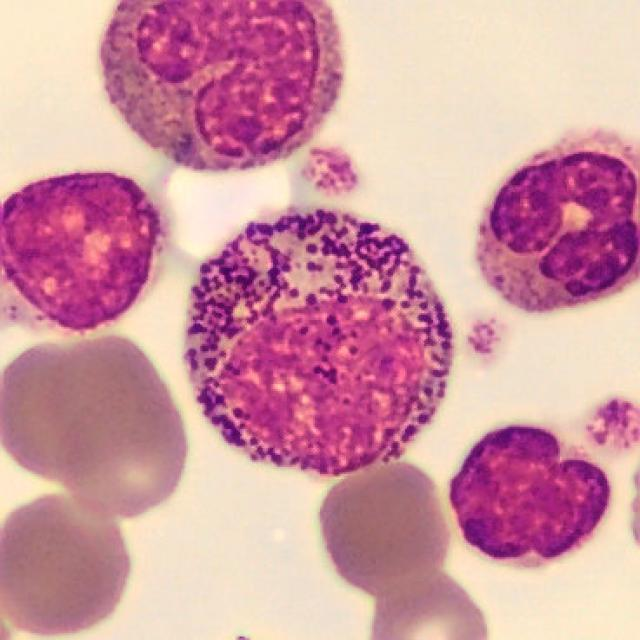Linfocito: (2, 173, 163, 336), (449, 426, 610, 564)
Metamielocito: (101, 0, 344, 173)
Neutrofilo segmentado: (477, 128, 640, 313)
Promielocito: (186, 211, 454, 479)
